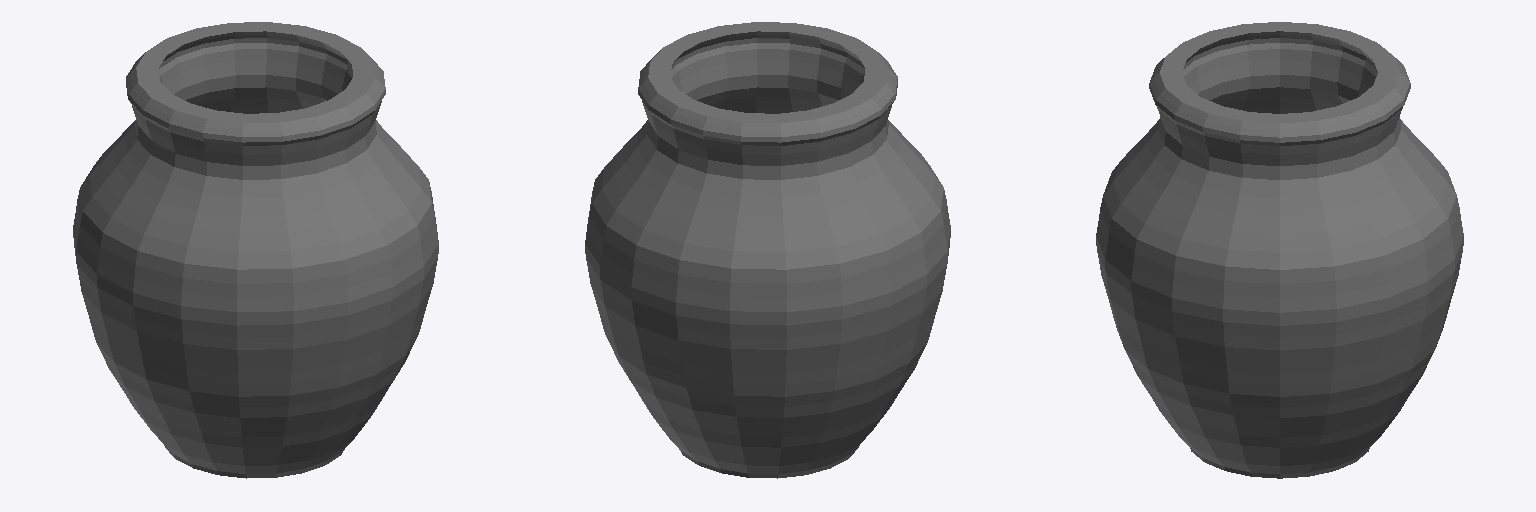
The model's file is vase-t.obj.
3 views of the same model, side by side, from view 1: azimuth 30°, elevation 25°; view 2: azimuth 150°, elevation 25°; view 3: azimuth 270°, elevation 25° (orthographic).
Visible parts, largest first — view 1: 1; view 2: 1; view 3: 1.
Boxes of the visible parts, box(x1,y1,x2,y2) form: 1: box(73, 22, 438, 478); 1: box(585, 22, 950, 478); 1: box(1096, 22, 1463, 478).
Size of the model in its own units: 1.56 by 1.72 by 1.56.